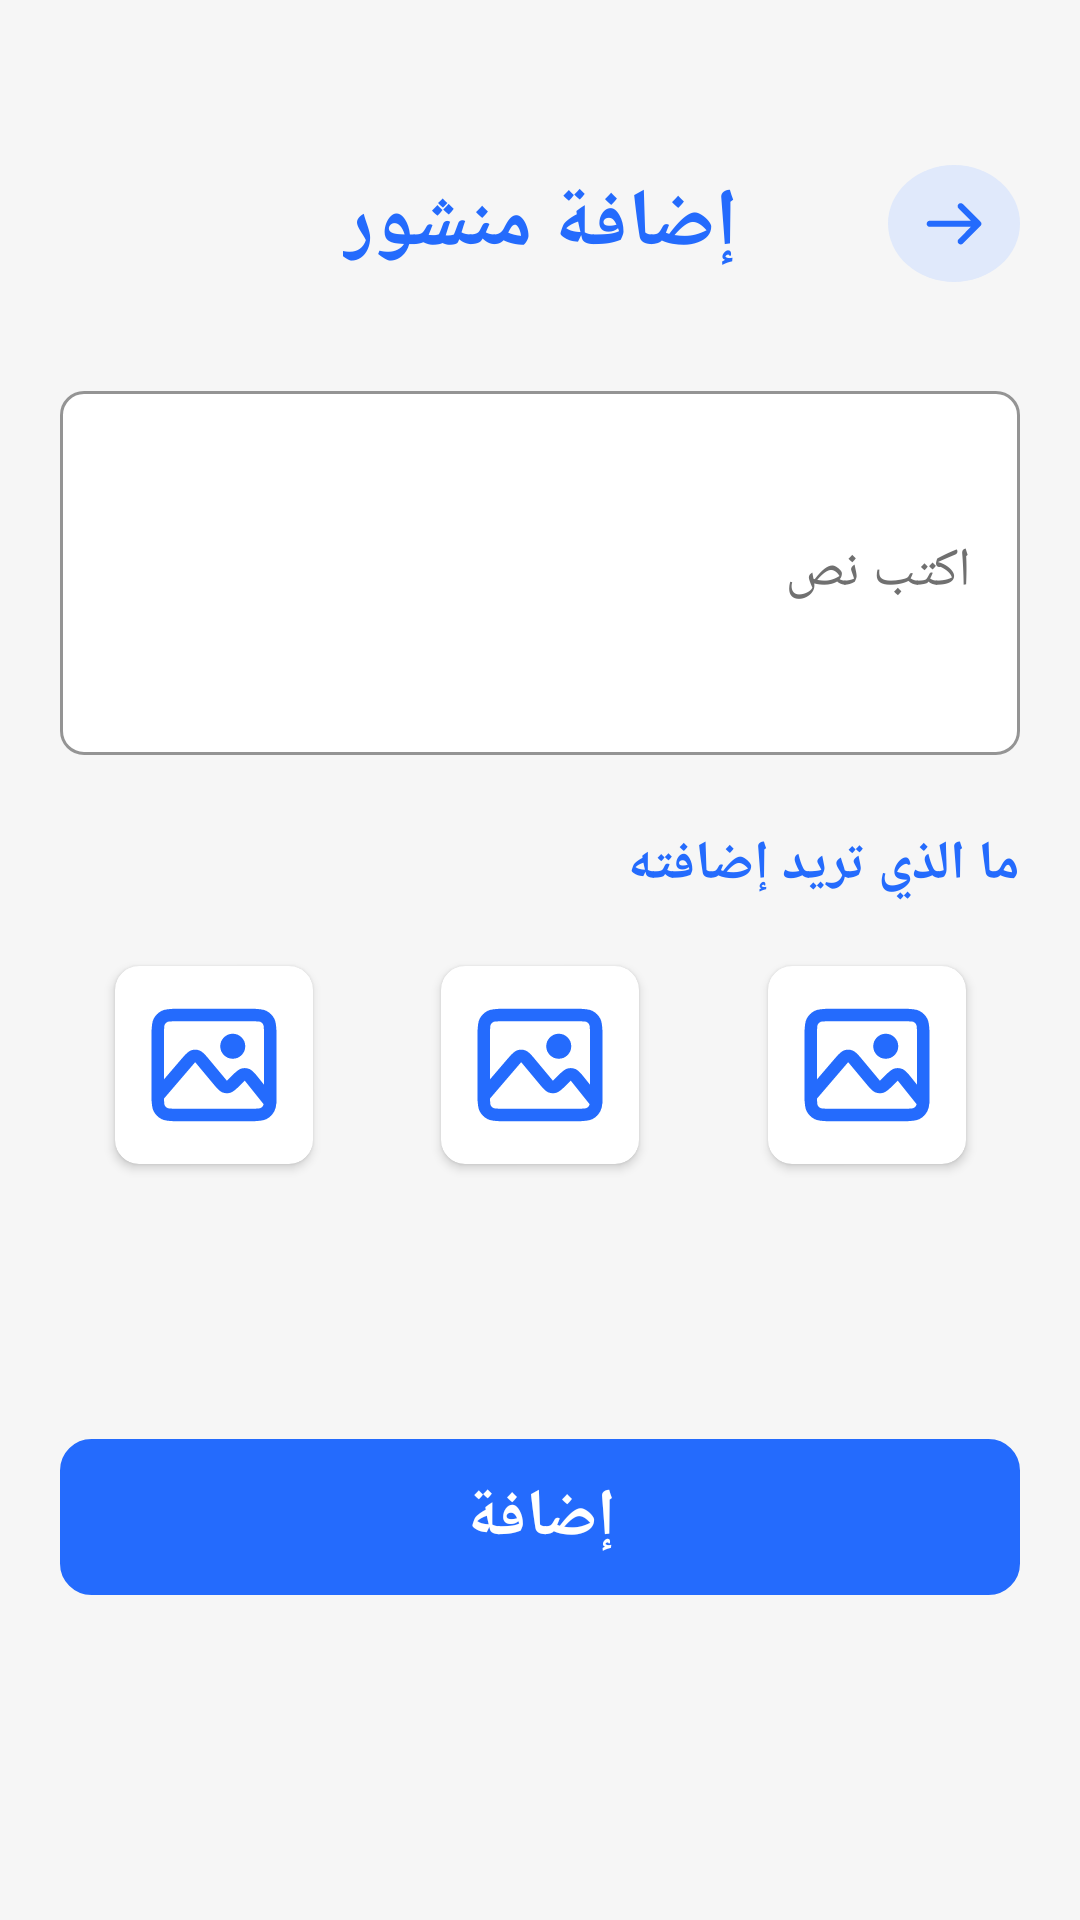

Icon click points for this 1080 × 1920 phone screenshot, format [x,y]:
arrow: [954,223]
